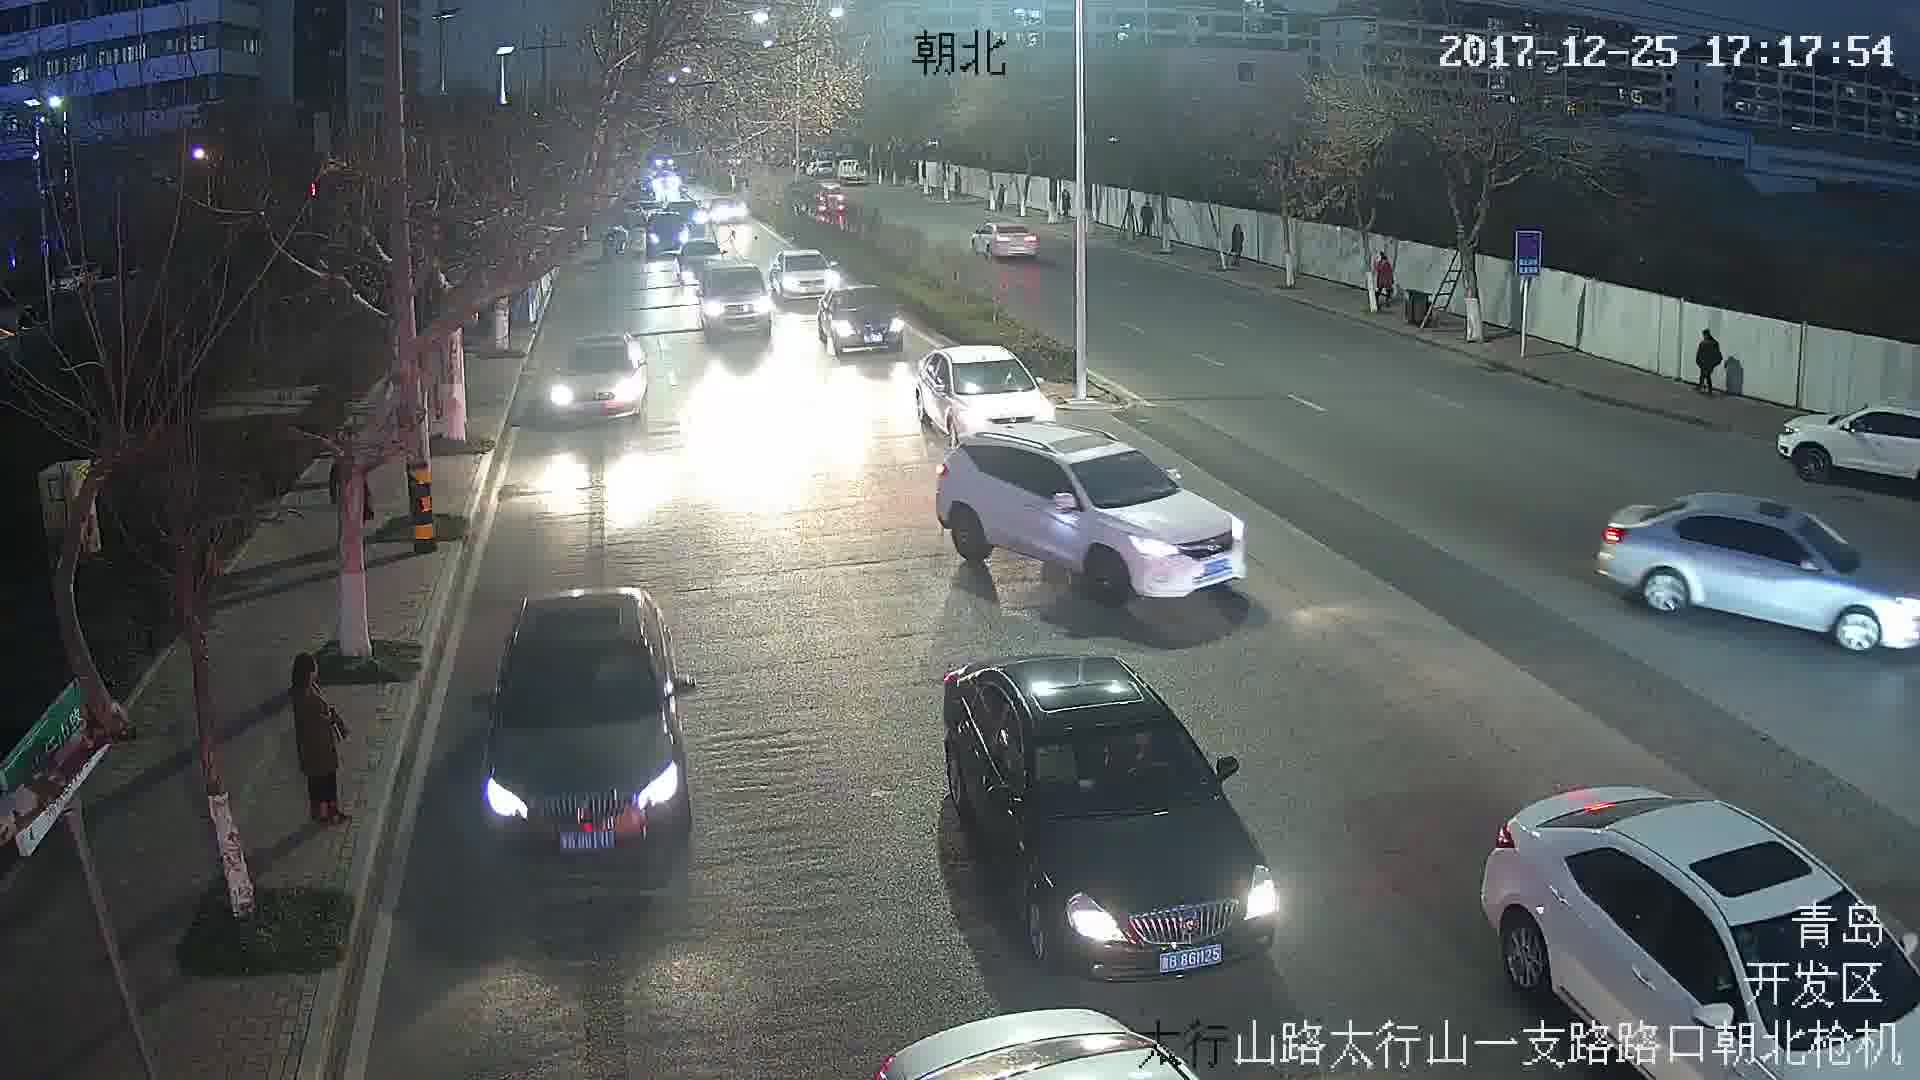car: (934, 656, 1282, 977), (471, 591, 692, 874), (931, 424, 1250, 610), (1600, 481, 1913, 663), (913, 344, 1055, 431), (549, 334, 648, 420), (816, 288, 912, 356), (693, 270, 770, 337), (971, 220, 1039, 260)
person: (289, 653, 346, 828), (1691, 331, 1724, 391), (1374, 249, 1399, 300), (1224, 228, 1245, 266)
